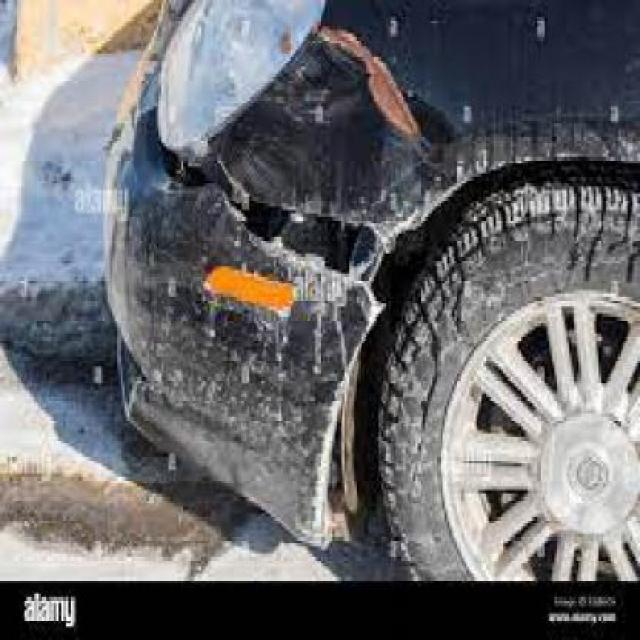damaged-front-bumper: (105, 114, 364, 542)
